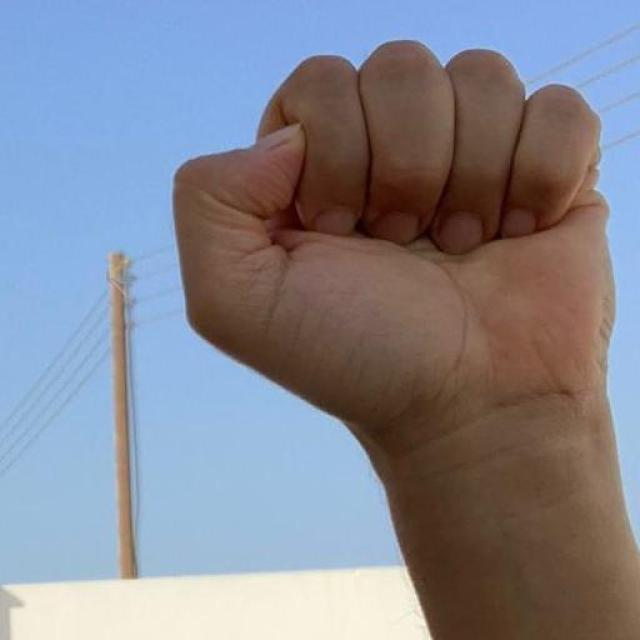hand: (170, 38, 639, 450)
